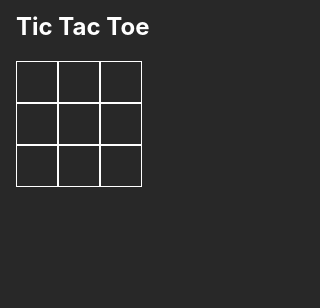
Test case: TicTacToe › displays a winner X once the board has been won by X
What coordinates should you click on to do the following:
click the 1st cell with test id "cell"
I would click on:
 (37, 82)
Its box is x1=16 y1=61 x2=58 y2=103.
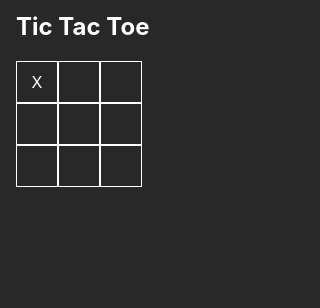
What coordinates should you click on to do the following:
click the 2nd cell with test id "cell"
I would click on:
 (79, 82)
Its box is x1=58 y1=61 x2=100 y2=103.
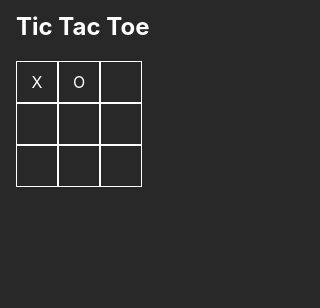
What coordinates should you click on to do the following:
click the 4th cell with test id "cell"
I would click on:
 (37, 124)
Its box is x1=16 y1=103 x2=58 y2=145.
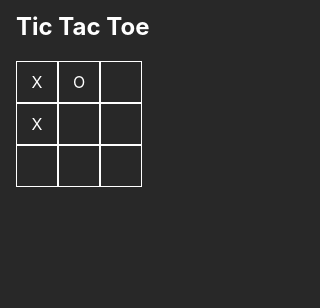
What coordinates should you click on to do the following:
click the 5th cell with test id "cell"
I would click on:
 (79, 124)
Its box is x1=58 y1=103 x2=100 y2=145.
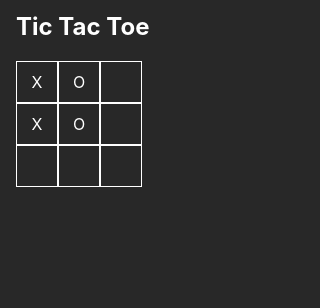
What coordinates should you click on to do the following:
click the 7th cell with test id "cell"
I would click on:
 (37, 166)
Its box is x1=16 y1=145 x2=58 y2=187.
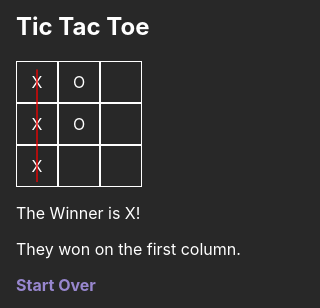
Expected: the text "The Winner is X" is shown, x1=16 y1=203 x2=140 y2=223
Expected: the text "They won on the first column" is shown, x1=16 y1=239 x2=241 y2=259
Expected: the drawing with test id "winning-line" is shown, x1=16 y1=61 x2=142 y2=187
